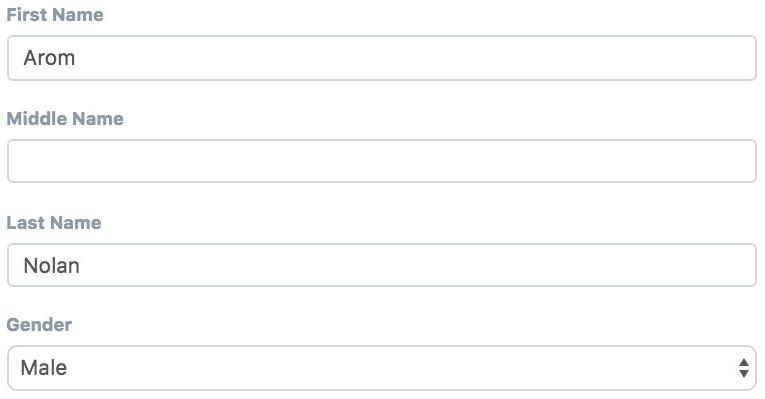field: (3, 31, 759, 83), (4, 136, 760, 184), (4, 243, 761, 290)
